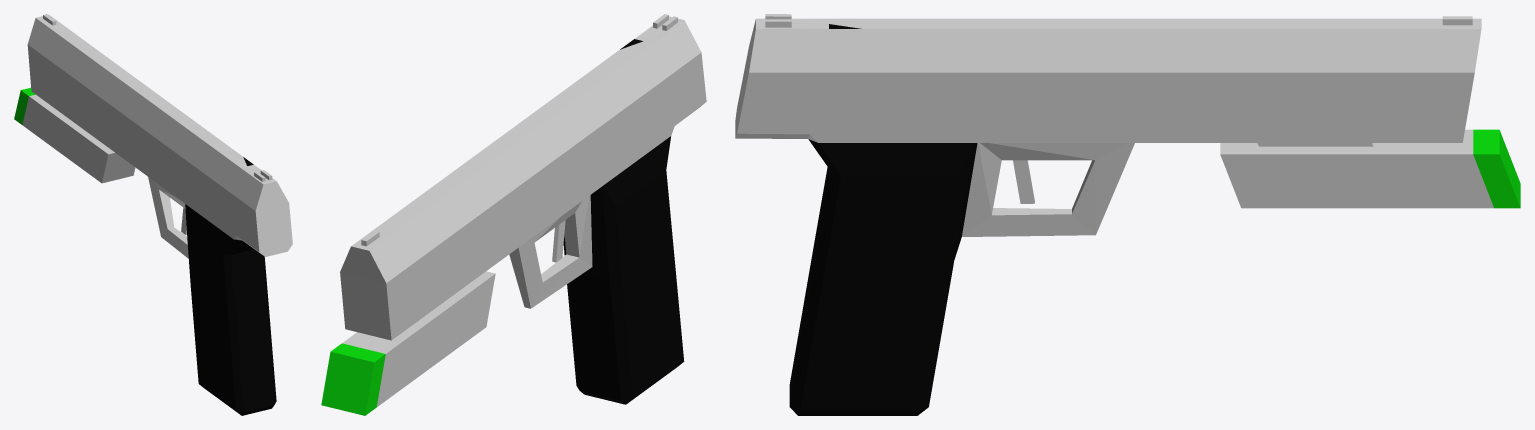
File: pistol.fbx
The picture shows the model from 3 angles, left to right: view 1: azimuth 30°, elevation 25°; view 2: azimuth 150°, elevation 25°; view 3: azimuth 270°, elevation 25°; orthographic projection. The views are drawn at different scales.
Parts seen in each view (by area): view 1: Pistol; view 2: Pistol; view 3: Pistol.
Boxes of the visible parts, x1,y1,x2,y2 form: Pistol: [14, 14, 292, 415]; Pistol: [321, 14, 706, 415]; Pistol: [735, 14, 1520, 415].
Bounding box in the file's own units: 11.99 × 1.14 × 6.51.
